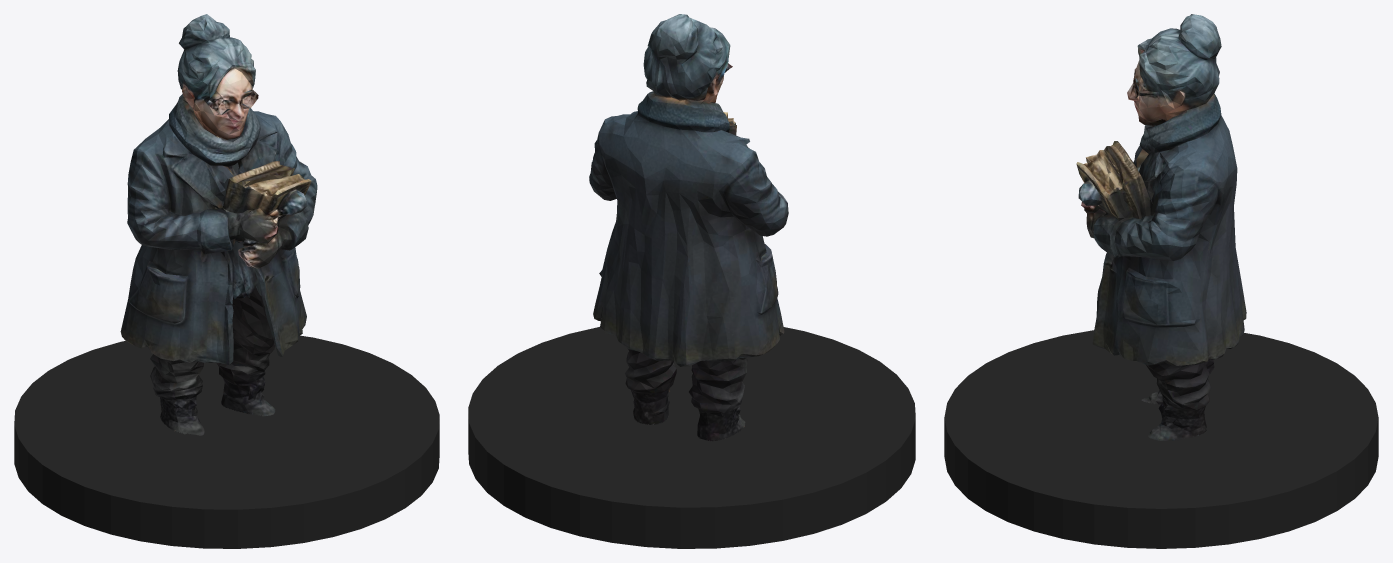
File: alexis-grey.glb
3 renders of one model, left to right at view 1: azimuth 30°, elevation 25°; view 2: azimuth 150°, elevation 25°; view 3: azimuth 270°, elevation 25°, orthographic. The views are drawn at different scales.
Visible parts, largest first — view 1: base, figure; view 2: base, figure; view 3: base, figure.
Boxes of the visible parts, x1,y1,x2,y2 form: base: [14, 335, 439, 548]; figure: [120, 14, 317, 435]; base: [468, 327, 915, 548]; figure: [589, 14, 788, 441]; base: [944, 330, 1378, 548]; figure: [1076, 14, 1246, 440].
Size of the model in its own units: 1.18 by 1.32 by 1.18.
2 materials, 1 textured.
